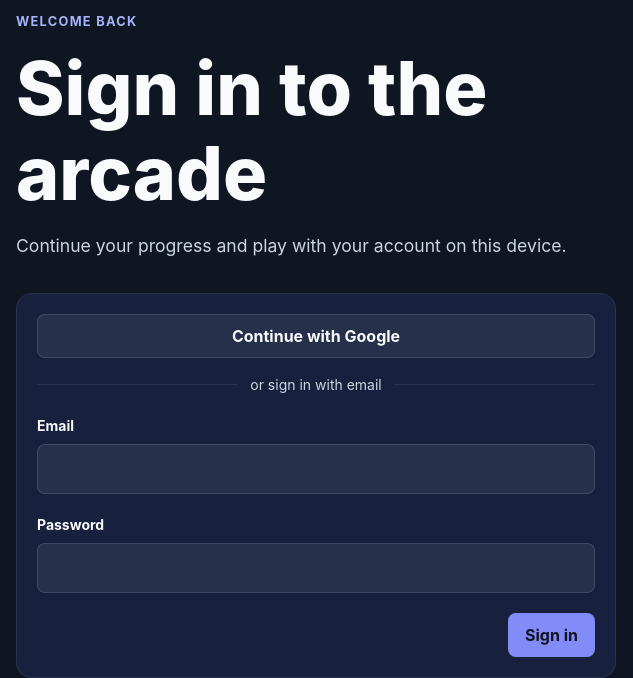
Scenario: login page › shows a generic error for invalid credentials
Expected: the heading "Sign in to the arcade" is shown, [16,44,487,218]
Expected: the button "Continue with Google" is shown, [37,314,595,358]
Type "player@example.com" into the field labelled "Email" at (316, 469), box [37,444,595,494]
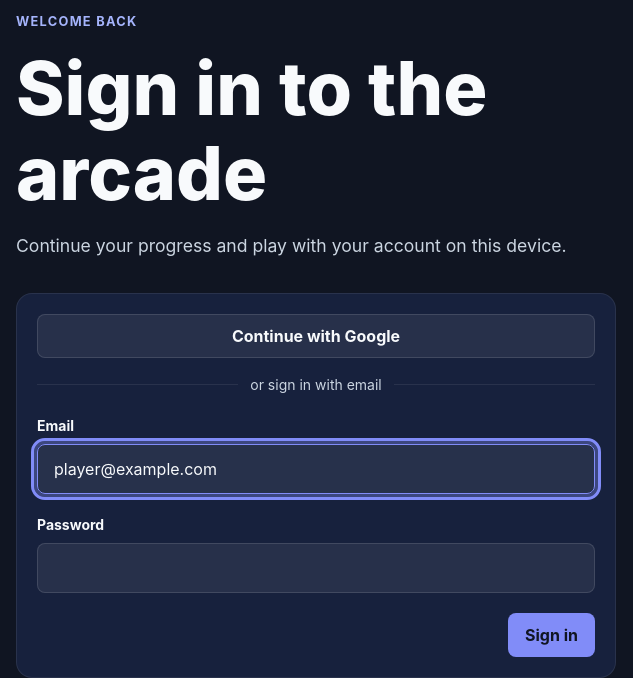
Type "safe-password" into the password field labelled "Password" at (316, 568), box [37,543,595,593]
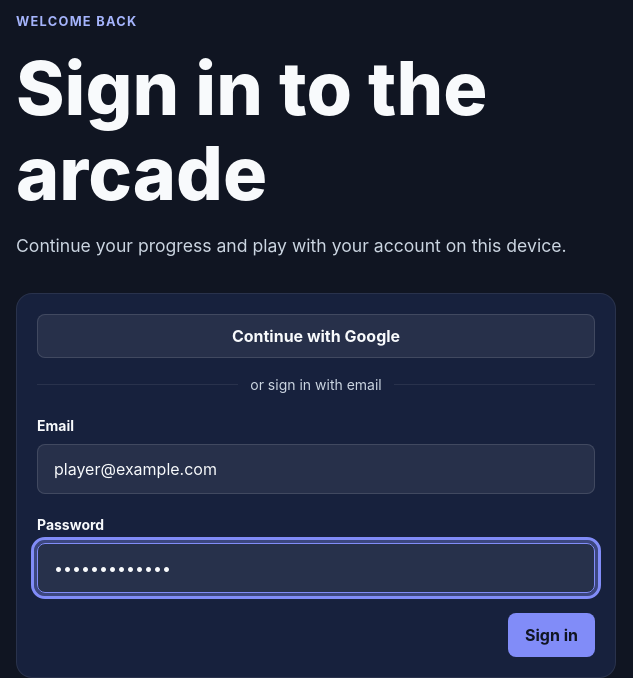
Click the button "Sign in" at (552, 635), box [508,613,595,657]
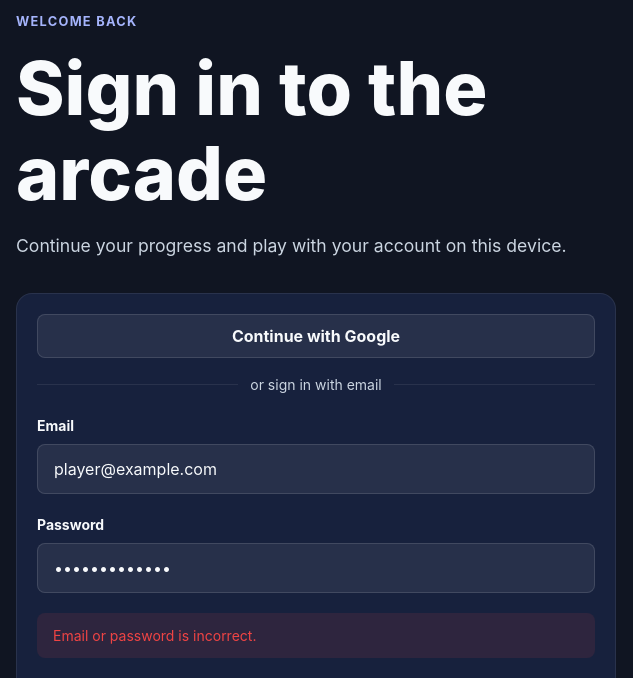
Expected: the text "Email or password is incorrect." is shown, [37,613,595,658]
